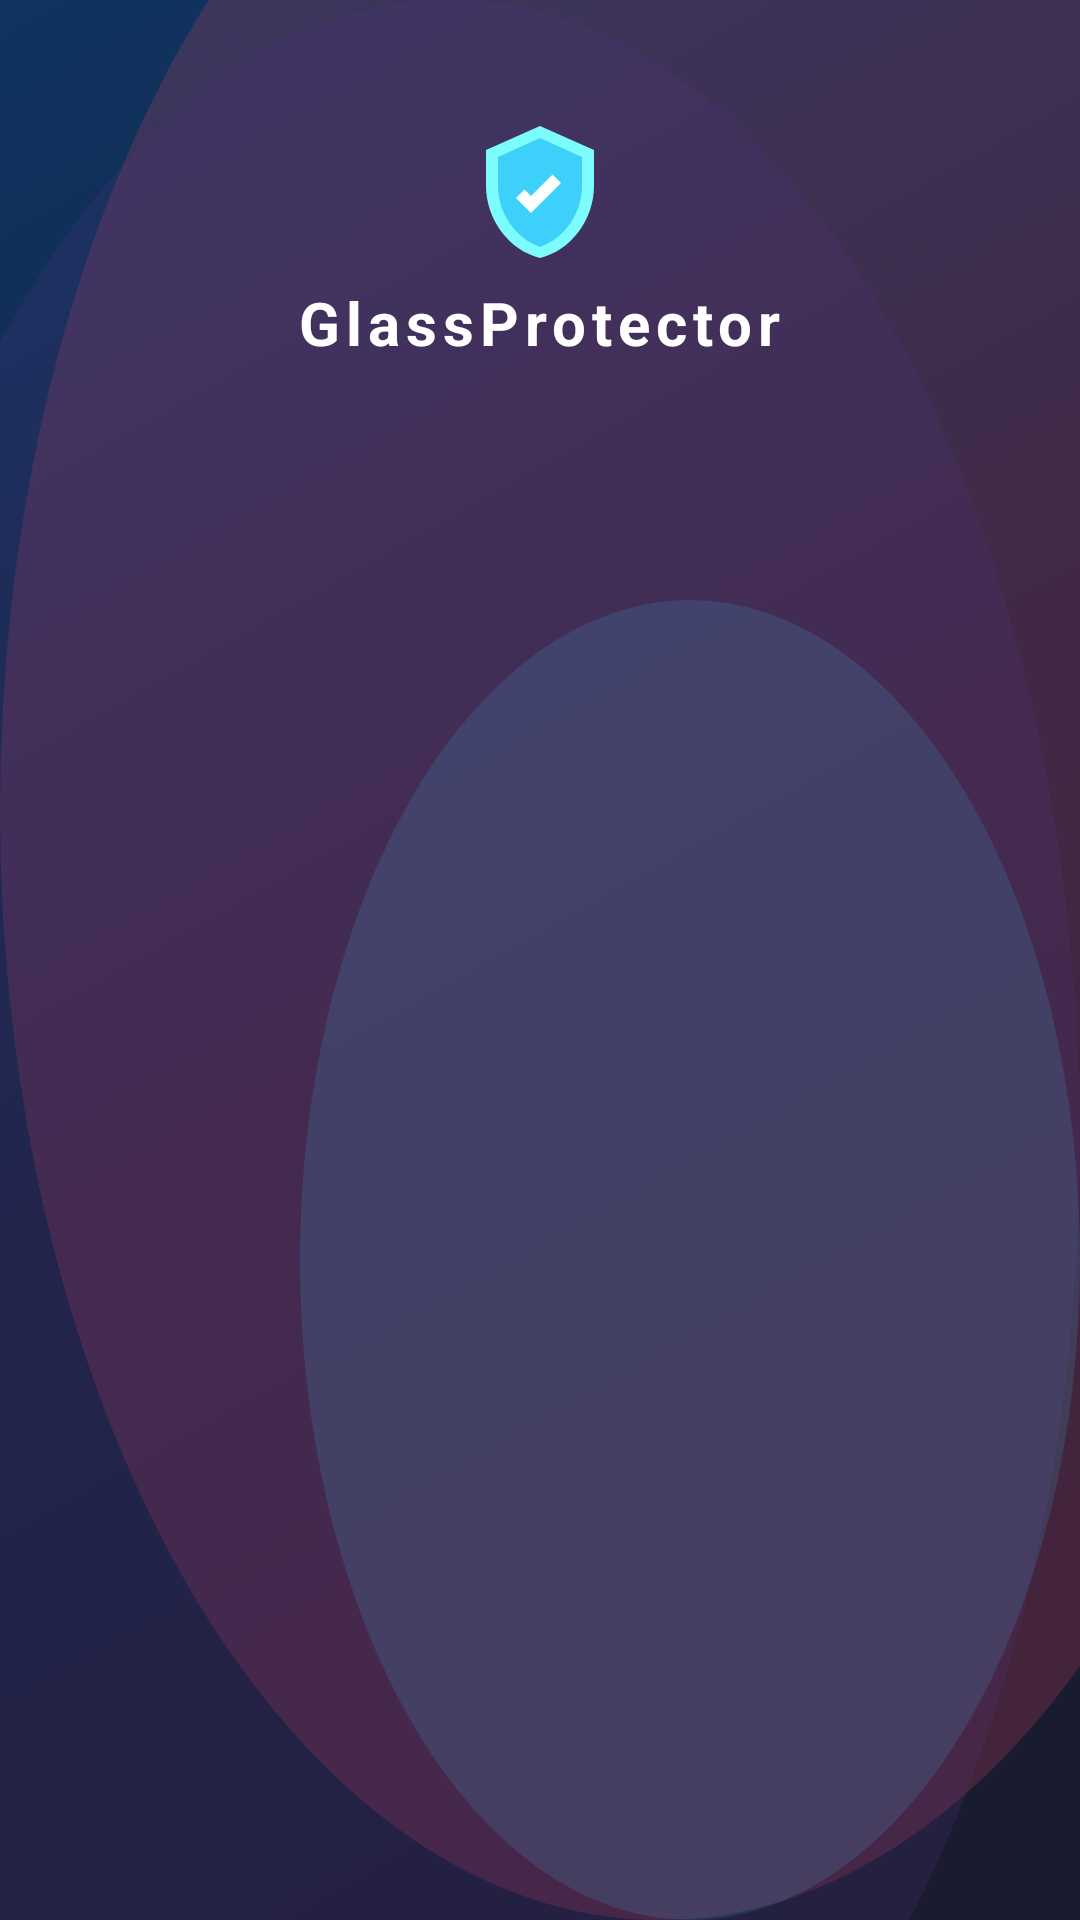

Where to tap for icons on this 1080×1920 app screen, as point (x, y):
shield: point (540, 192)
